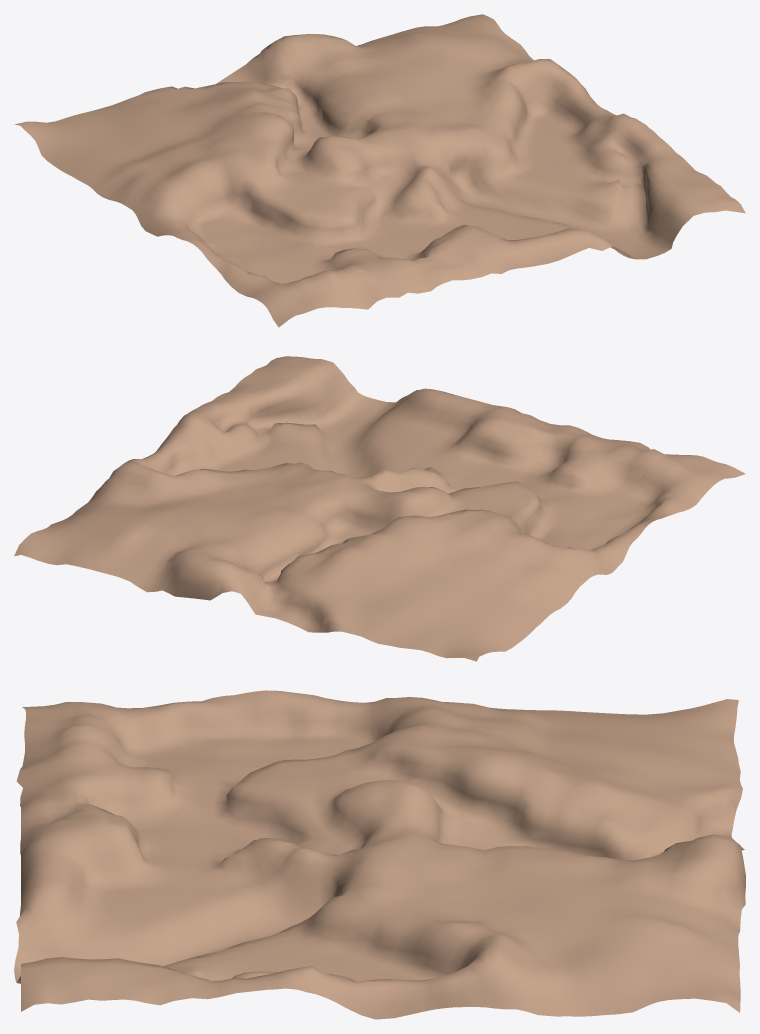
File: CrashSite5.5.fbx
3 views of the same model, one above another, from view 1: azimuth 30°, elevation 25°; view 2: azimuth 150°, elevation 25°; view 3: azimuth 270°, elevation 25° (orthographic). The views are drawn at different scales.
Visible parts, largest first — view 1: plane-retopo 1; view 2: plane-retopo 1; view 3: plane-retopo 1.
Part boxes in pixels (x1=…): plane-retopo 1: x1=14, y1=14, x2=745, y2=327; plane-retopo 1: x1=14, y1=356, x2=745, y2=661; plane-retopo 1: x1=14, y1=690, x2=745, y2=1019.
Size of the model in its own units: 303 by 41.03 by 305.
